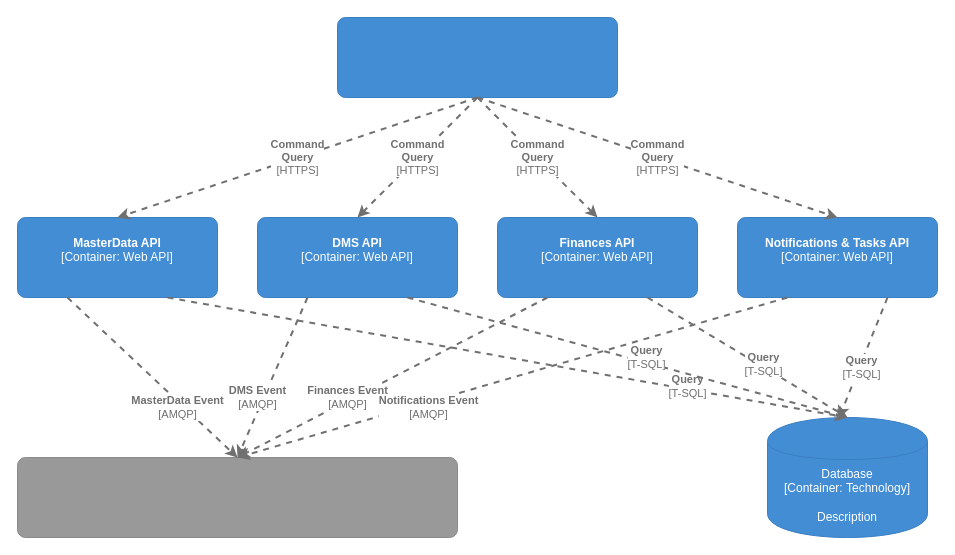
The diagram is 955 pixels wide and 555 high, and some of its shapes have lost their labels. Here are the shapes that lost their labels. From the top down, the centre of each, then its label:
the point at 477,57: API Gateway [Container: Web API] Input
the point at 237,497: Azure Service Bus [Software System]
